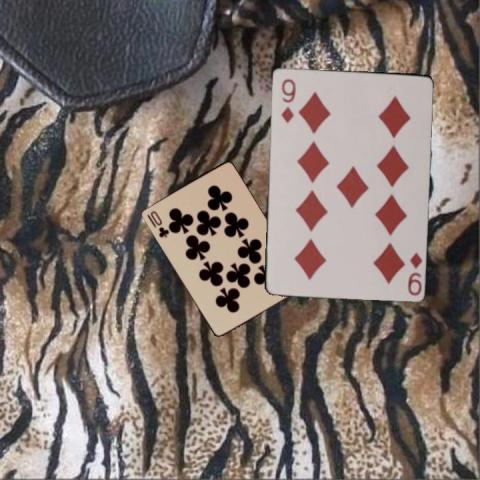10c: (144, 208, 170, 239)
9d: (278, 75, 296, 125), (404, 248, 422, 297)
